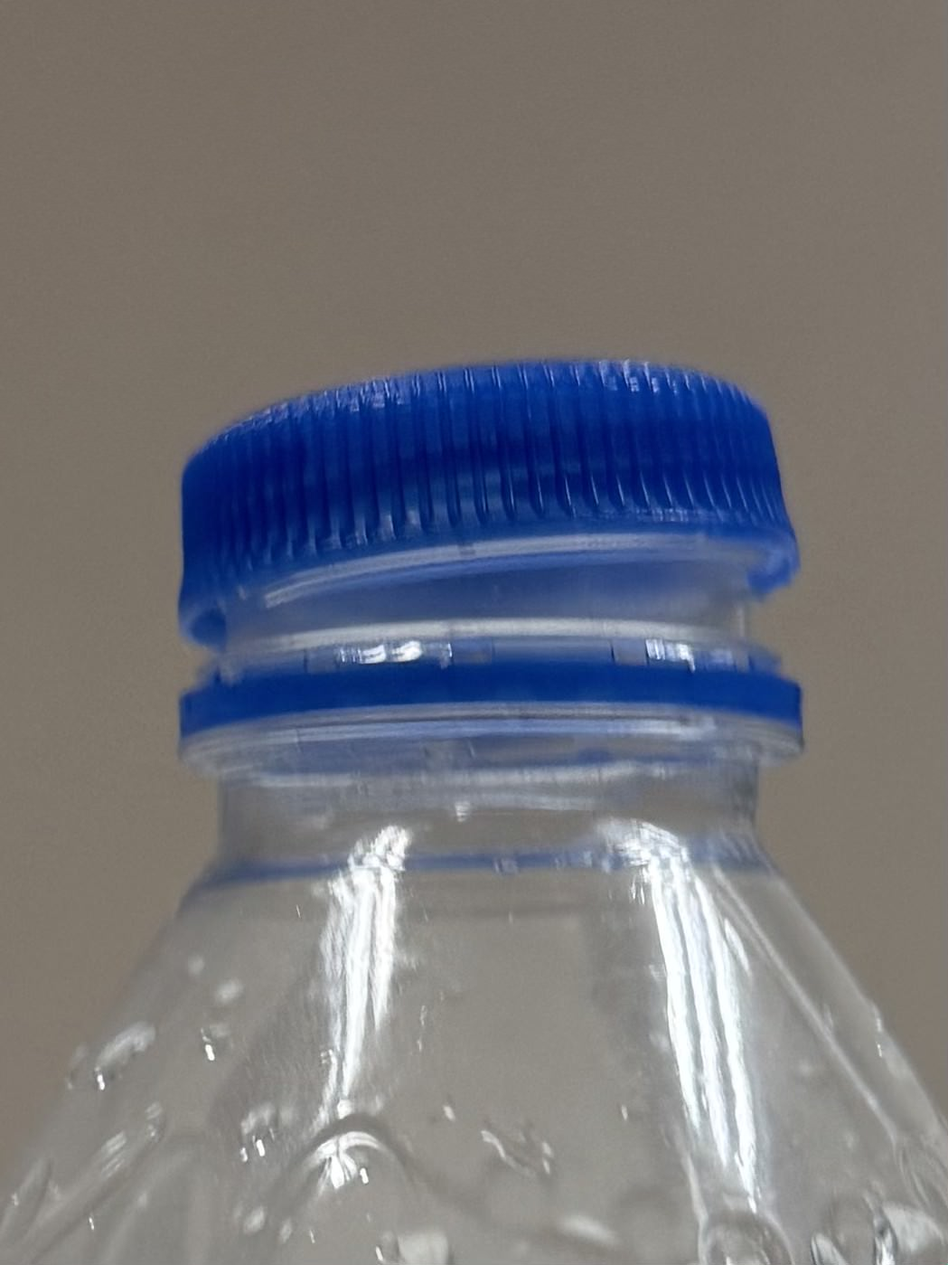half_cap: (160, 345, 821, 772)
